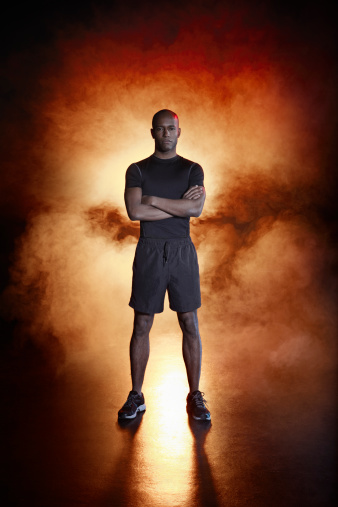em pe: (122, 104, 205, 421)
